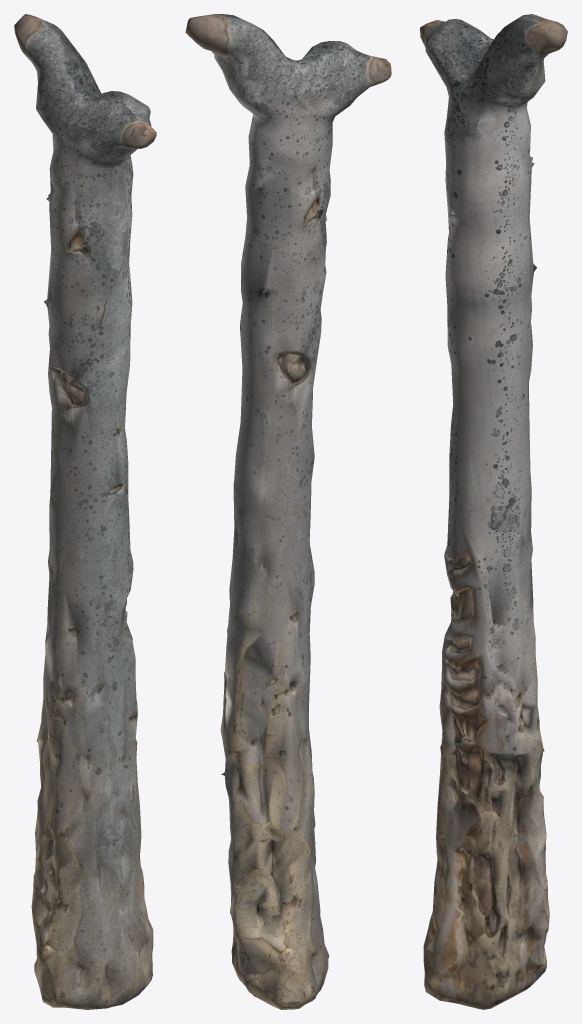
Rendered from dead_trunk.glb.
3 renders of one model, left to right at view 1: azimuth 90°, elevation 25°; view 2: azimuth 150°, elevation 25°; view 3: azimuth 270°, elevation 25°, orthographic. The views are drawn at different scales.
Parts seen in each view (by area): view 1: dead_quiver_trunk_LOD0; view 2: dead_quiver_trunk_LOD0; view 3: dead_quiver_trunk_LOD0.
Boxes of the visible parts, x1,y1,x2,y2 form: dead_quiver_trunk_LOD0: (14,14,156,1009); dead_quiver_trunk_LOD0: (185,14,391,1009); dead_quiver_trunk_LOD0: (420,14,567,1009).
Size of the model in its own units: 0.3052 by 1.99 by 0.2682.
Materials: 1 (1 with a texture image).
